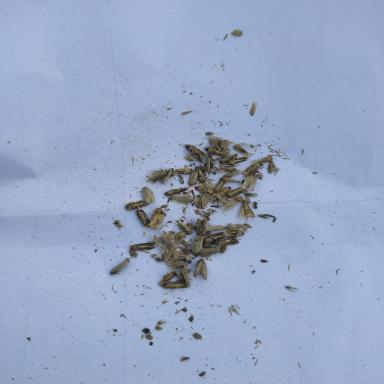pbw: (221, 195, 242, 212), (240, 198, 256, 220), (181, 144, 206, 158), (202, 232, 225, 247), (109, 259, 129, 276), (193, 258, 208, 280), (242, 162, 263, 176), (147, 170, 168, 183), (135, 209, 150, 227), (204, 144, 226, 156), (198, 246, 224, 256), (241, 174, 257, 190), (194, 162, 207, 181), (212, 236, 239, 245), (191, 235, 203, 255), (124, 200, 148, 210), (142, 186, 155, 204), (177, 220, 192, 235), (159, 270, 175, 284), (206, 155, 218, 173), (213, 186, 231, 198), (129, 242, 156, 250), (180, 264, 190, 285), (164, 186, 187, 195), (226, 187, 246, 197), (226, 156, 248, 165), (196, 218, 207, 236), (160, 168, 173, 183), (233, 143, 249, 155), (219, 153, 238, 162), (223, 168, 240, 178), (162, 282, 190, 288), (223, 229, 244, 237), (172, 268, 184, 282), (188, 170, 198, 186), (213, 180, 226, 192), (172, 195, 194, 202), (172, 168, 193, 175), (220, 176, 240, 183), (204, 182, 214, 194), (268, 161, 277, 173), (206, 226, 224, 232)
